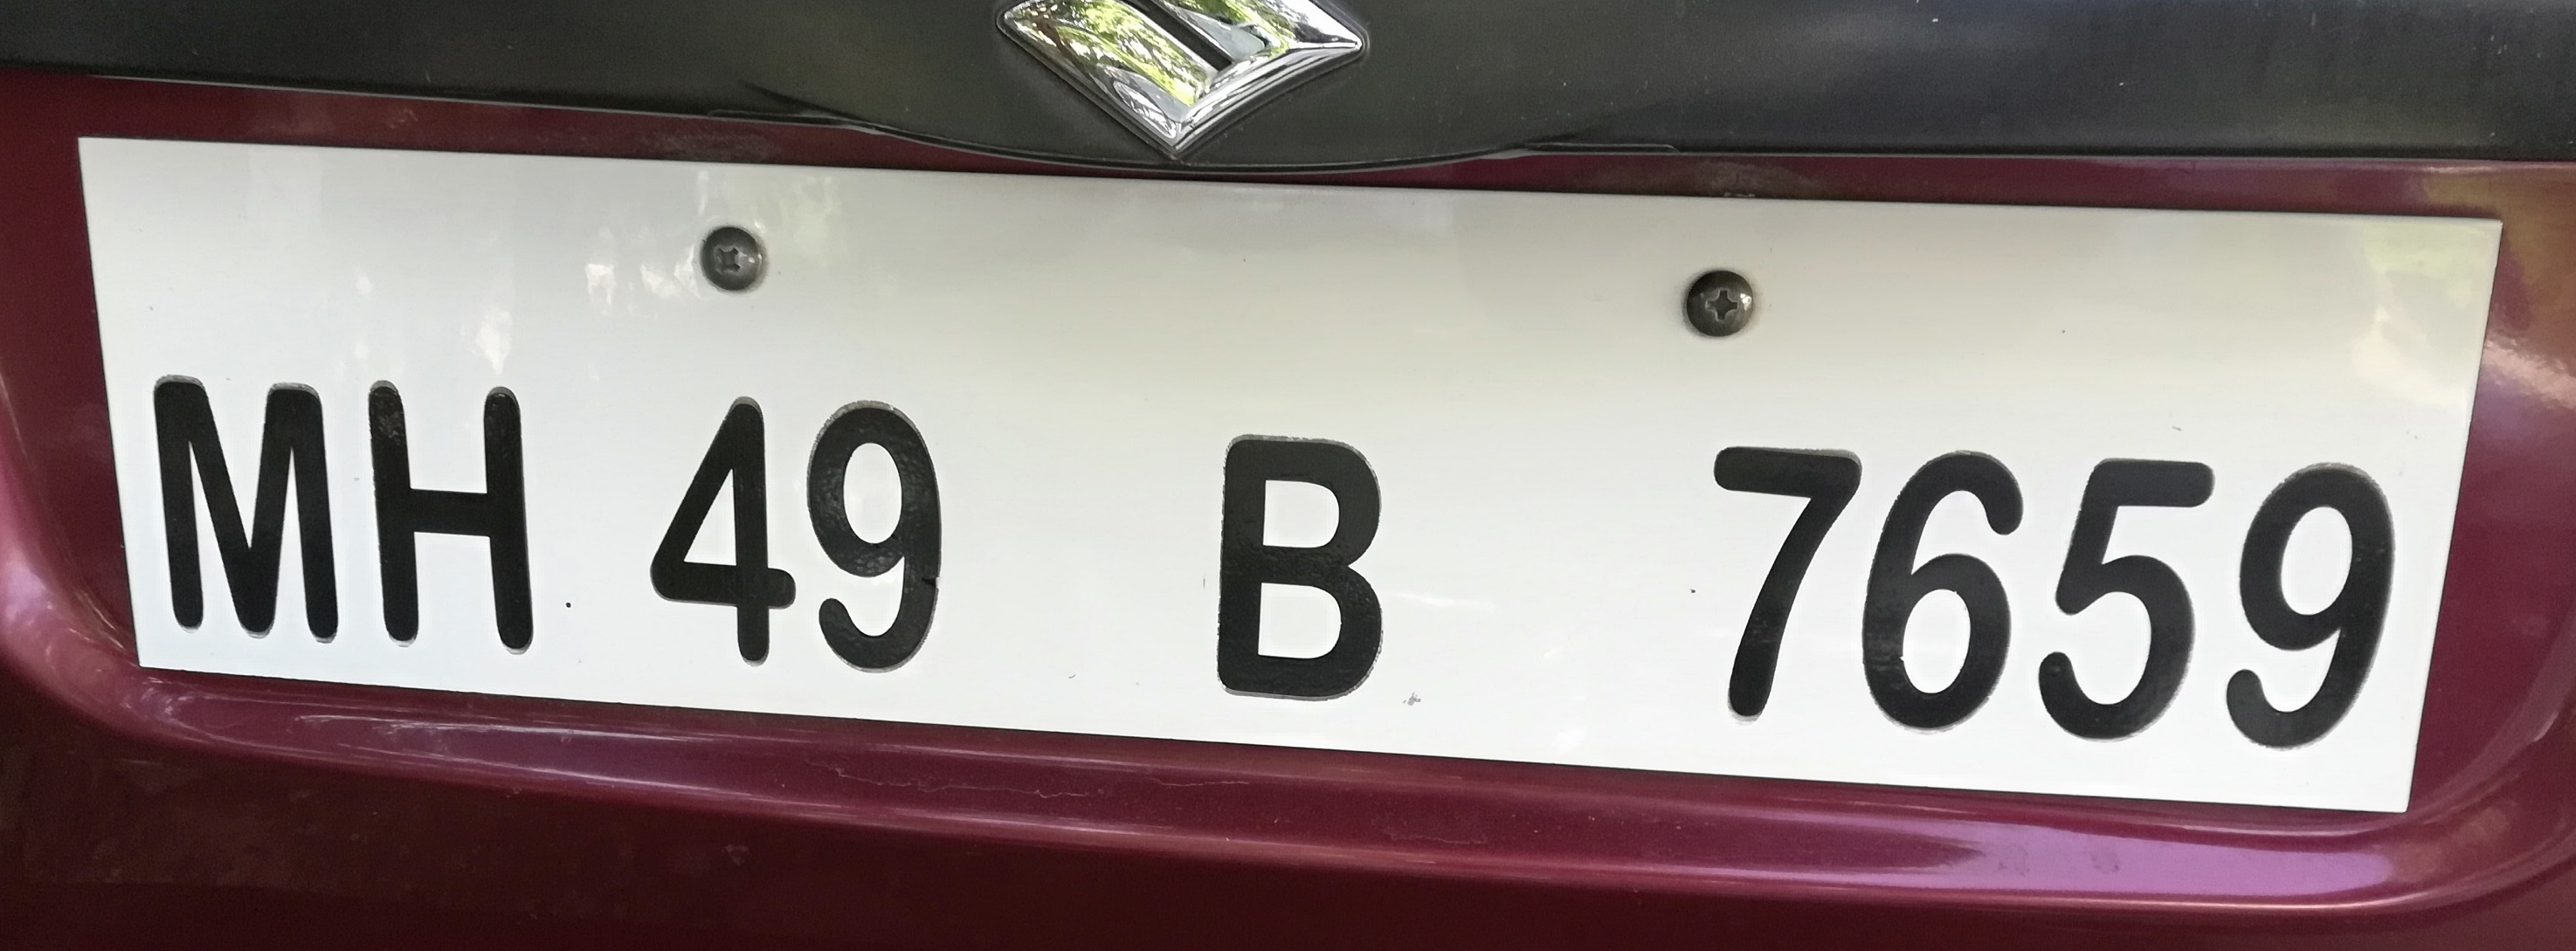numberplate: (43, 104, 2507, 832)
